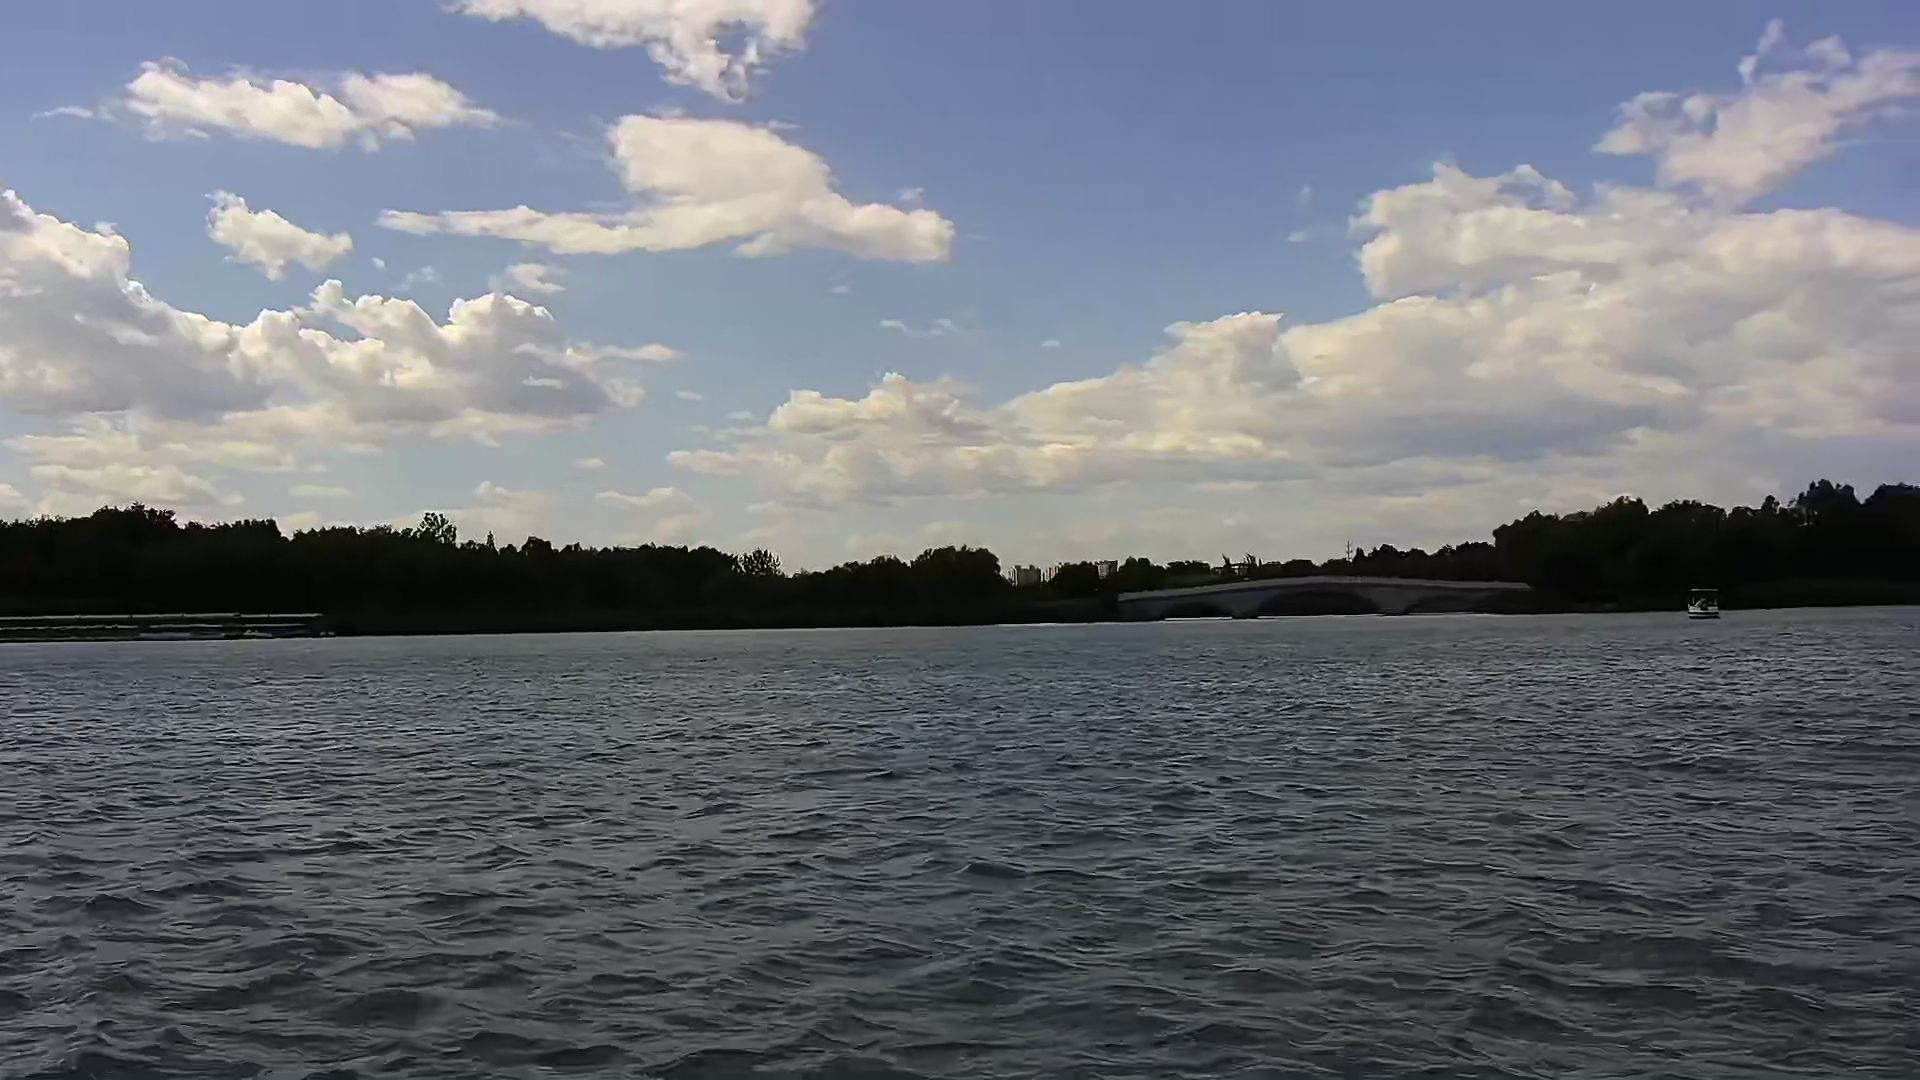boat: (1683, 578, 1733, 620)
bridge: (1109, 568, 1540, 620)
